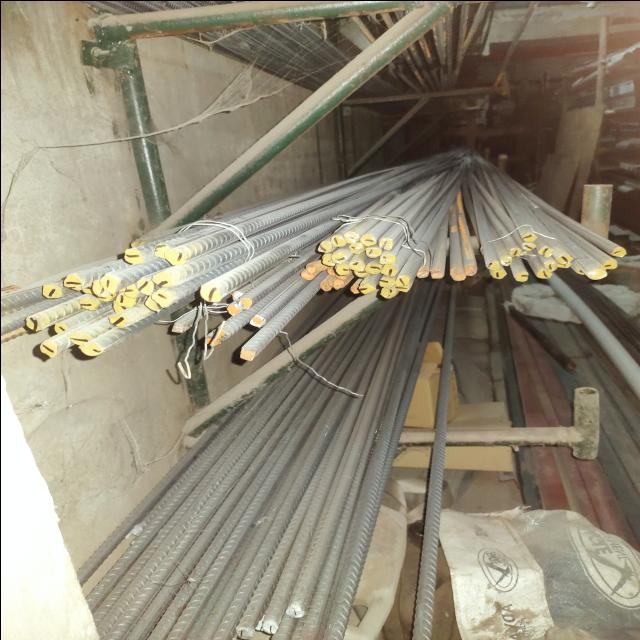Rebar: (201, 284, 220, 300), (99, 275, 119, 289), (126, 248, 142, 264), (138, 277, 154, 293), (157, 274, 173, 287), (156, 293, 173, 305), (80, 344, 100, 354), (153, 245, 169, 257), (168, 250, 184, 262), (65, 277, 81, 289), (41, 286, 57, 298), (81, 297, 97, 309), (25, 318, 41, 330), (41, 343, 57, 355), (73, 334, 91, 344), (109, 316, 127, 326), (93, 283, 108, 295), (124, 285, 140, 296), (115, 296, 134, 305), (382, 264, 396, 276), (367, 263, 381, 275), (379, 238, 391, 250), (464, 265, 476, 277), (453, 270, 465, 282), (432, 268, 444, 280), (332, 236, 344, 248), (320, 241, 332, 253), (322, 255, 334, 267), (333, 254, 346, 265), (539, 246, 553, 256), (523, 232, 537, 242), (521, 242, 535, 252), (509, 248, 523, 258), (515, 272, 529, 282), (492, 269, 506, 279), (487, 261, 501, 271), (366, 248, 380, 258), (350, 243, 364, 253), (381, 288, 395, 298), (54, 325, 68, 335), (545, 260, 557, 271), (380, 256, 396, 264), (351, 262, 365, 271), (336, 266, 350, 275), (356, 269, 370, 278), (380, 278, 394, 287), (396, 276, 410, 285), (146, 300, 160, 309), (538, 269, 550, 279), (417, 268, 429, 278), (346, 233, 358, 243), (362, 284, 374, 294), (362, 236, 375, 245), (113, 303, 127, 311), (232, 289, 244, 298), (240, 299, 252, 308), (251, 317, 263, 326), (242, 351, 254, 360), (228, 307, 240, 316), (172, 324, 184, 333), (614, 248, 627, 256), (605, 261, 618, 269), (591, 270, 604, 278), (559, 255, 572, 263), (350, 284, 360, 294), (334, 279, 344, 289), (322, 282, 332, 292), (306, 263, 316, 273), (302, 271, 312, 281), (101, 295, 115, 302), (501, 257, 512, 265), (81, 287, 93, 294), (577, 268, 587, 276), (561, 262, 571, 270), (396, 286, 409, 292), (336, 274, 348, 280), (327, 269, 334, 276)
